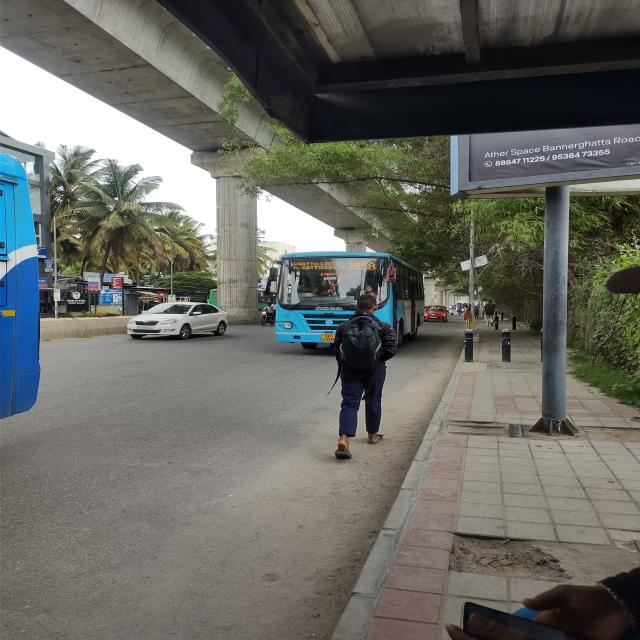bus: (269, 252, 424, 353)
display: (292, 259, 378, 272)
dnumber: (347, 262, 376, 270)
